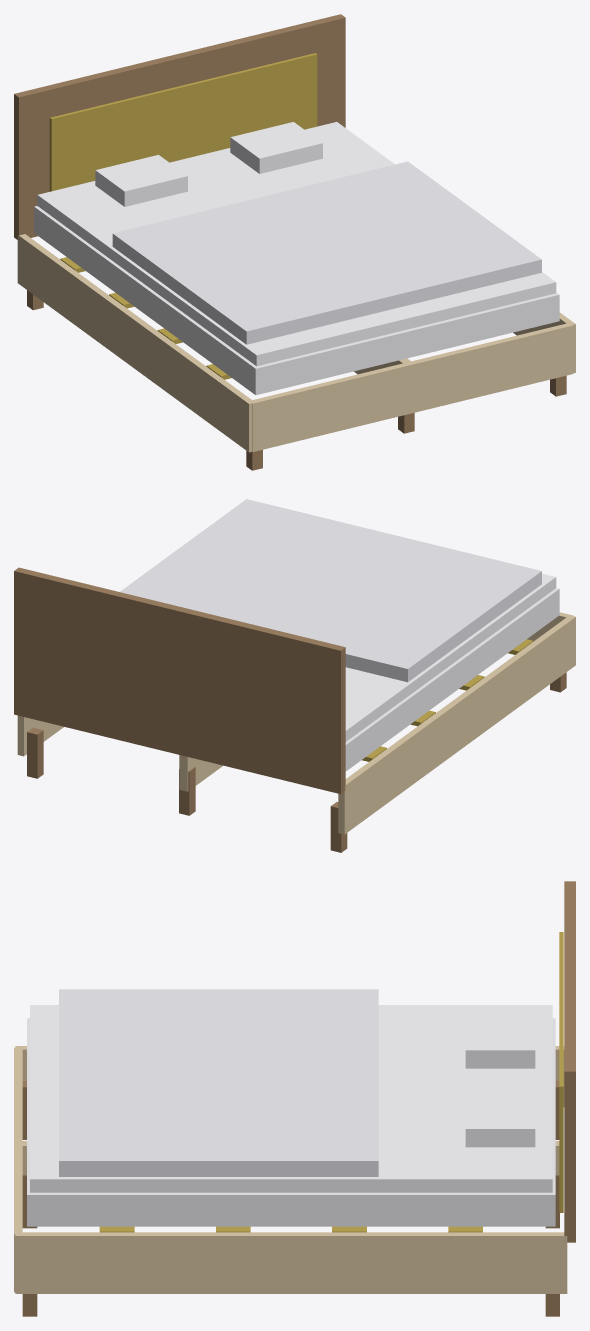
The model's file is bed_double.glb.
3 views of the same model, one above another, from view 1: azimuth 30°, elevation 25°; view 2: azimuth 150°, elevation 25°; view 3: azimuth 270°, elevation 25° (orthographic). The views are drawn at different scales.
Visible parts, largest first — view 1: blanket, mattress_top, footboard, headboard_frame, mattress_base, side_rails, hb_panel_c, hb_panel_l, hb_panel_r, pillow_r, pillow_l, legs (+1 smaller); view 2: headboard_frame, blanket, side_rails, mattress_base, mattress_top, legs, center_support, slats; view 3: blanket, mattress_top, side_rails, mattress_base, headboard_frame, pillow_l, pillow_r, legs, footboard, slats, hb_panel_r.
Part boxes in pixels (x1,y1,x2,y2): blanket: (112, 161, 541, 344); mattress_top: (37, 122, 556, 366); footboard: (251, 322, 573, 451); headboard_frame: (14, 14, 345, 239); mattress_base: (34, 206, 559, 395); side_rails: (17, 234, 575, 452); hb_panel_c: (138, 74, 228, 162); hb_panel_l: (49, 96, 140, 191); hb_panel_r: (227, 53, 317, 147); pillow_r: (230, 122, 322, 173); pillow_l: (95, 155, 187, 206); legs: (27, 290, 566, 470); headboard_frame: (14, 567, 345, 794); blanket: (120, 499, 541, 682); side_rails: (17, 615, 575, 834); mattress_base: (345, 588, 559, 771); mattress_top: (345, 573, 556, 741); legs: (27, 672, 566, 852); center_support: (179, 755, 222, 791); slats: (362, 639, 533, 761); blanket: (59, 989, 378, 1176); mattress_top: (30, 1005, 552, 1192); side_rails: (15, 1046, 567, 1293); mattress_base: (27, 1018, 555, 1226); headboard_frame: (564, 881, 575, 1242); pillow_l: (465, 1013, 535, 1068); pillow_r: (465, 1092, 535, 1147); legs: (22, 1081, 559, 1316); footboard: (14, 1047, 22, 1292); slats: (99, 1226, 482, 1232); hb_panel_r: (559, 1035, 563, 1212).
Bounding box in the file's own units: 1.55 × 0.945 × 1.94.
